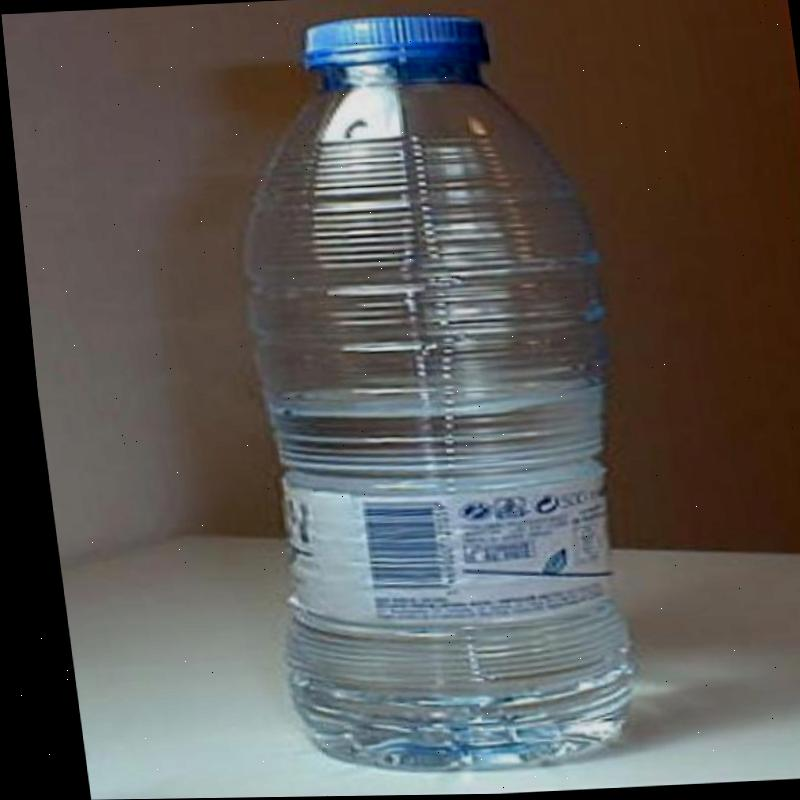botella: (198, 6, 653, 784)
